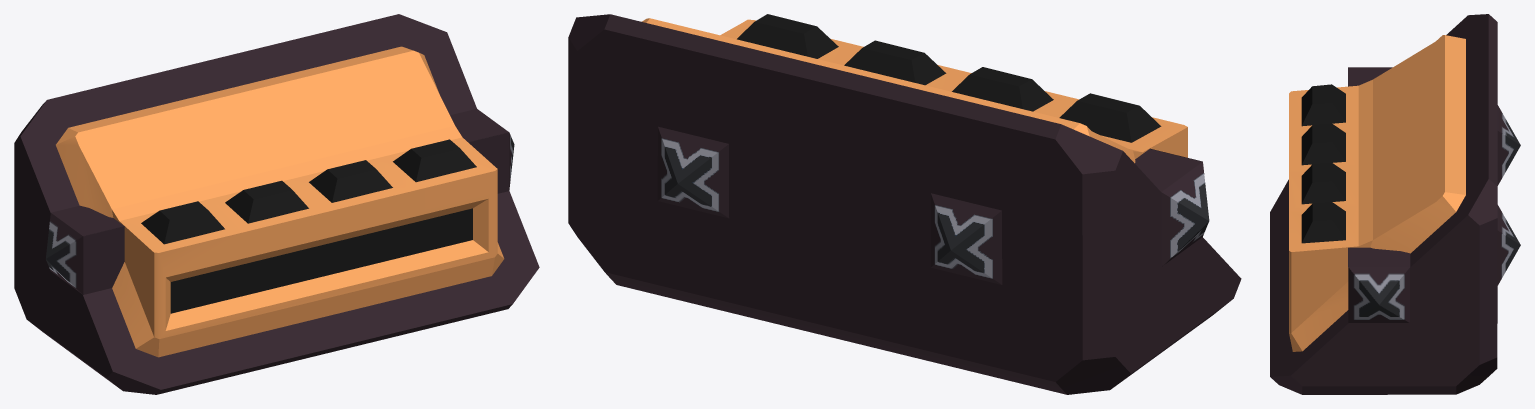
Rendered from YK_Mortar_Medium_Base.obj.
3 renders of one model, left to right at view 1: azimuth 30°, elevation 25°; view 2: azimuth 150°, elevation 25°; view 3: azimuth 270°, elevation 25°, orthographic. The views are drawn at different scales.
Parts seen in each view (by area): view 1: BF_Block_111.011; view 2: BF_Block_111.011; view 3: BF_Block_111.011.
Part boxes in pixels (bbox=[...]): BF_Block_111.011: bbox=[14, 14, 539, 394]; BF_Block_111.011: bbox=[568, 14, 1241, 394]; BF_Block_111.011: bbox=[1270, 14, 1520, 394].
Size of the model in its own units: 2.2 by 1.06 by 1.06.
